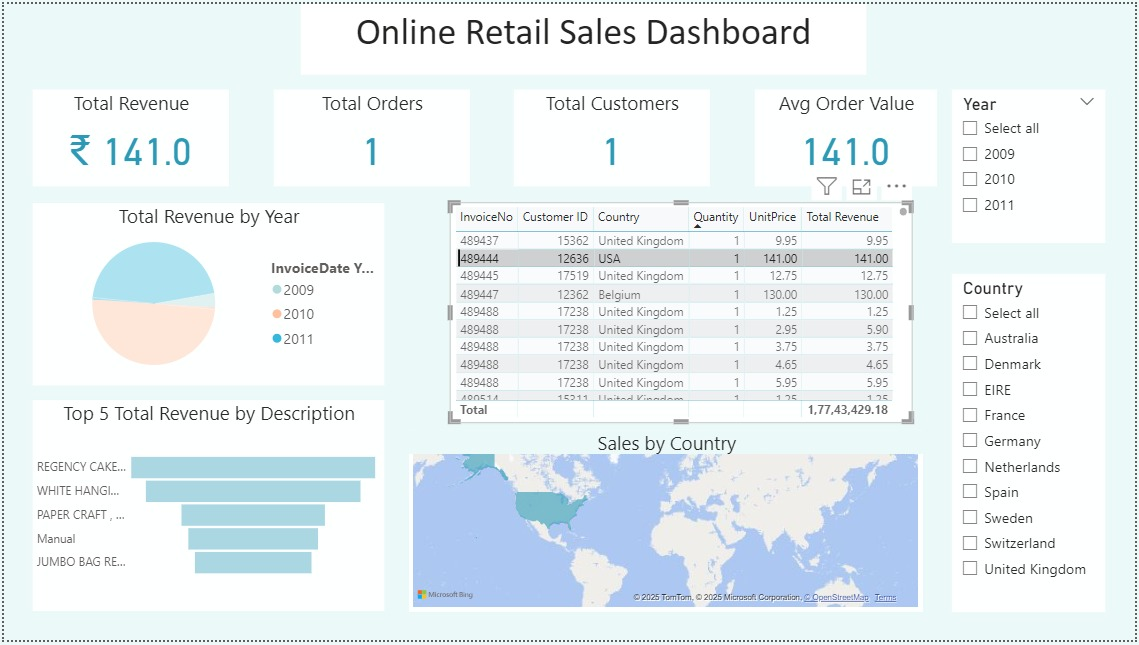

The dashboard page shown, as its layout file describes it:
{"tool":"powerbi","page":{"name":"Page 1","canvas":[1280,720],"ordinal":0},"visuals":[{"type":"textbox","box":[336,0,640,80],"z":0},{"type":"card","title":"Total Revenue","fields":{"Values":["All dax.Total Revenue"]},"box":[32,96,224,112],"z":1000},{"type":"card","title":"Total Orders","fields":{"Values":["All dax.Total Orders"]},"box":[304,96,224,112],"z":2000},{"type":"card","title":"Total Customers","fields":{"Values":["All dax.Total Customers"]},"box":[576,96,224,112],"z":3000},{"type":"card","title":"Avg Order Value","fields":{"Values":["All dax.Avg Order Value"]},"box":[848,96,208,112],"z":4000},{"type":"pieChart","title":"Total Revenue by Year","fields":{"Category":["RetailData.InvoiceDate.Variation.Date Hierarchy.Year"],"Y":["All dax.Total Revenue","Sum(RetailData.Year)"]},"box":[32,224,400,208],"z":5000},{"type":"funnel","title":"Top 5 Total Revenue by Description","fields":{"Category":["RetailData.Description"],"Y":["All dax.Total Revenue"]},"box":[32.1,447.4,400,241.1],"z":6000},{"type":"slicer","fields":{"Values":["RetailData.Year"]},"box":[1072,96,176,176],"z":7000},{"type":"filledMap","title":"Sales by Country","fields":{"Category":["RetailData.Country"]},"box":[457.1,480.8,584,207.7],"z":8000},{"type":"slicer","fields":{"Values":["RetailData.Country"]},"box":[1071.8,303.8,175.6,384.7],"z":8001},{"type":"tableEx","fields":{"Values":["RetailData.InvoiceNo","RetailData.Customer ID","RetailData.Country","RetailData.Quantity","RetailData.UnitPrice","All dax.Total Revenue"]},"box":[504.5,224.4,524,249.5],"z":8002}]}

Visuals, with their boxes in screenshot pixels (x1, y1, x2, y2), scaled from the page's 1280x720 canvas onto the 1139x645 screenshot:
textbox: pyautogui.locateOnScreen(299, 0, 868, 72)
"Total Revenue" card: pyautogui.locateOnScreen(28, 86, 228, 186)
"Total Orders" card: pyautogui.locateOnScreen(271, 86, 470, 186)
"Total Customers" card: pyautogui.locateOnScreen(513, 86, 712, 186)
"Avg Order Value" card: pyautogui.locateOnScreen(755, 86, 940, 186)
"Total Revenue by Year" pieChart: pyautogui.locateOnScreen(28, 201, 384, 387)
"Top 5 Total Revenue by Description" funnel: pyautogui.locateOnScreen(29, 401, 385, 617)
slicer - RetailData.Year: pyautogui.locateOnScreen(954, 86, 1111, 244)
"Sales by Country" filledMap: pyautogui.locateOnScreen(407, 431, 926, 617)
slicer - RetailData.Country: pyautogui.locateOnScreen(954, 272, 1110, 617)
tableEx - RetailData.InvoiceNo x RetailData.Customer ID: pyautogui.locateOnScreen(449, 201, 915, 425)
